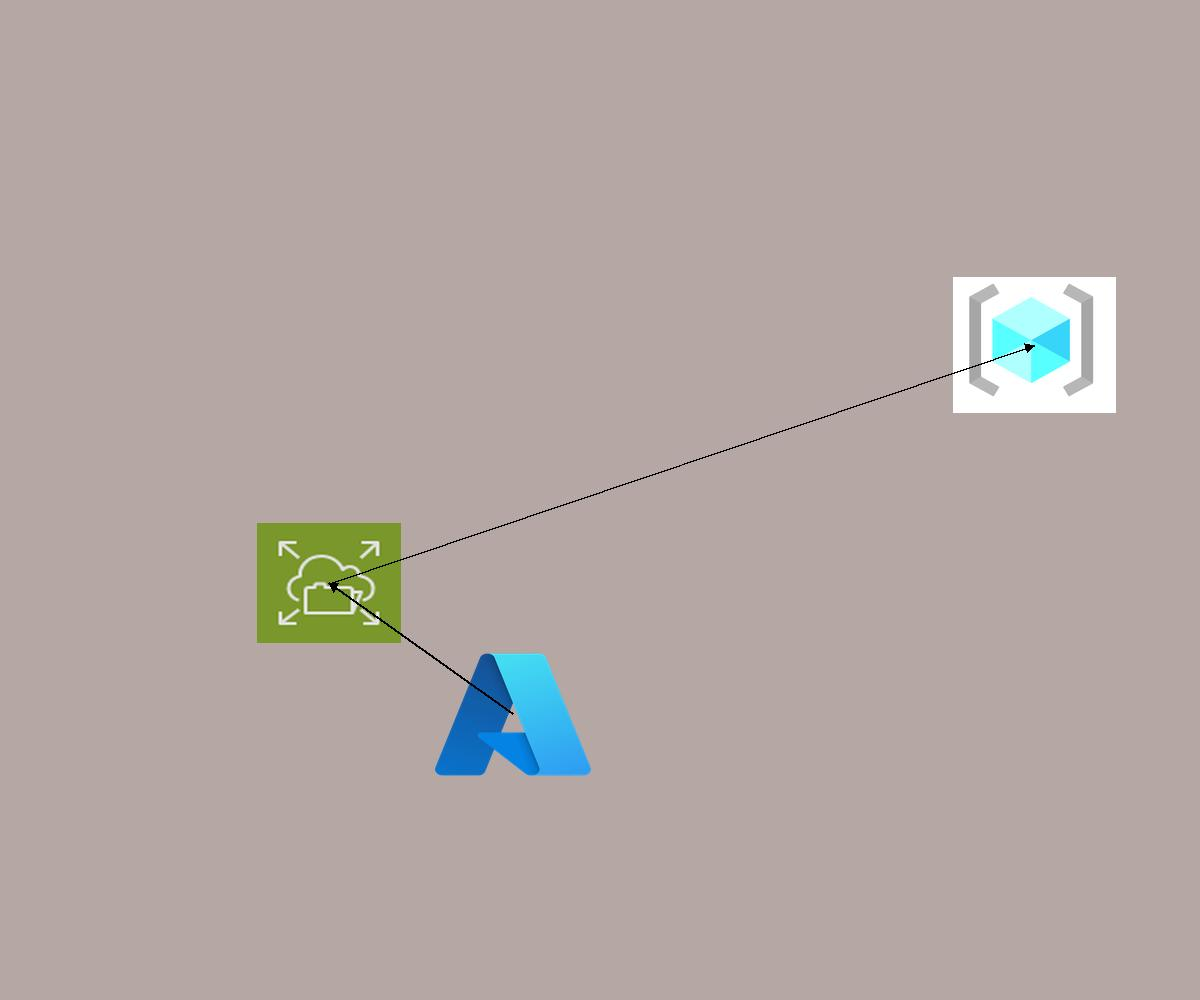AWS-EFS: (257, 523, 401, 643)
Azure_resource_group: (953, 277, 1116, 413)
Azure_services: (428, 644, 598, 785)
